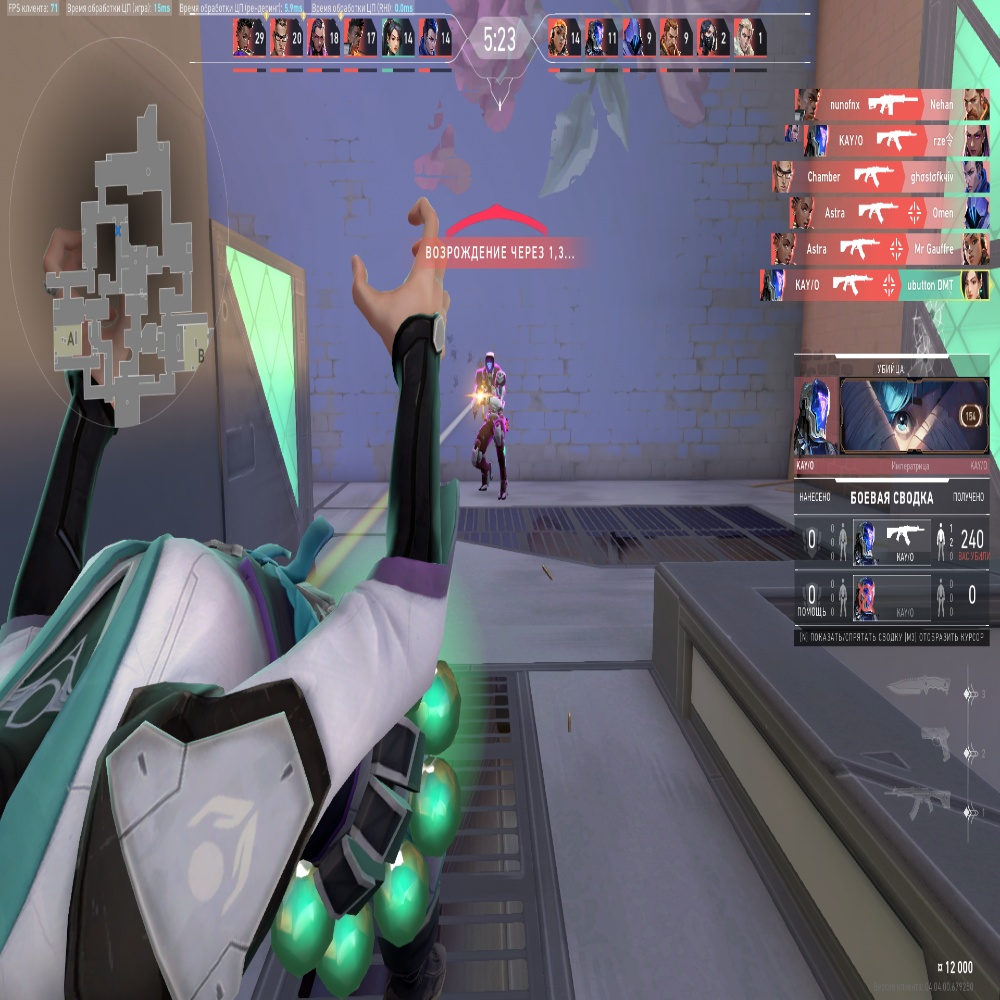body: (476, 373, 506, 424)
head: (484, 355, 495, 372)
